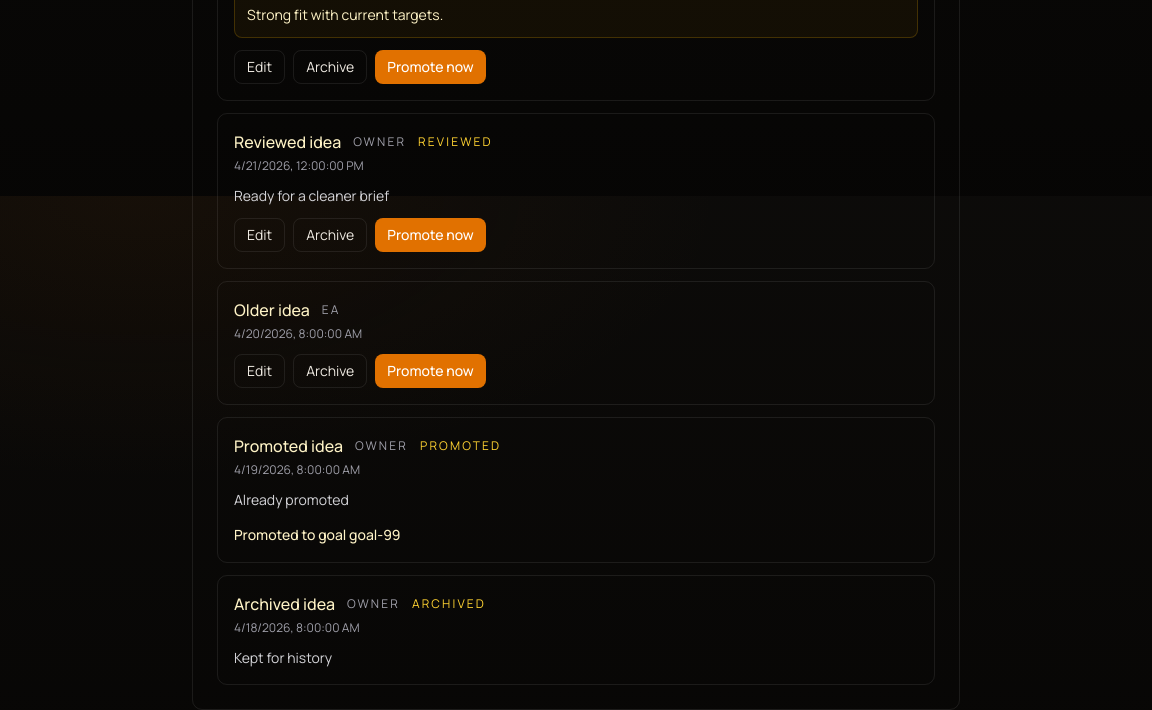
Test case: HiveIdeasPage › archives an idea and removes it from the default open list
This screenshot has width=1152, height=710.
(page scrolled)
Check: the heading "Older idea" is shown, box [234, 298, 310, 322]
Click the button "Archive" below "4/20/2026, 8:00:00 AM". click: (330, 371)
box: [293, 354, 367, 388]
(page scrolled)
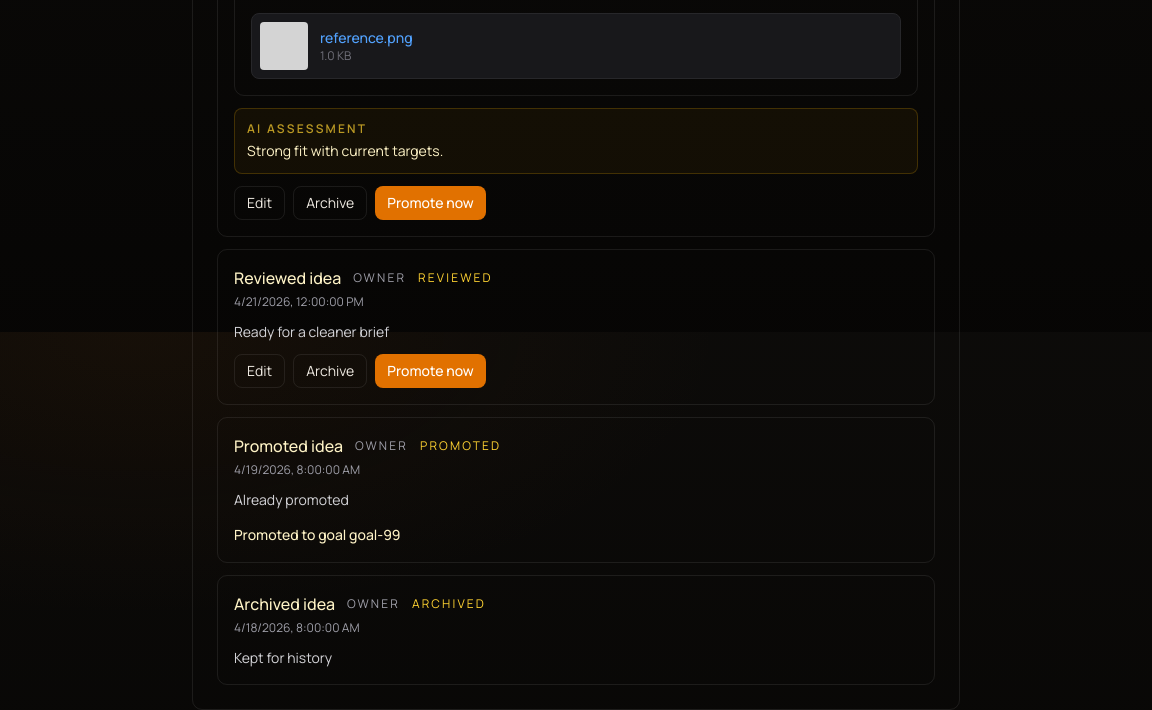
Check: the heading "Older idea" is gone
